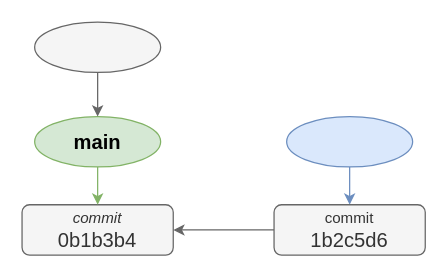
Image size: 447x277. Some labels were removed from this diagram. The shapes that lost their labels are listed below. From the top down, each one's centre as x and y in pixels, then its label:
At (x=97, y=46): "HEAD".
At (x=349, y=141): "desc".
